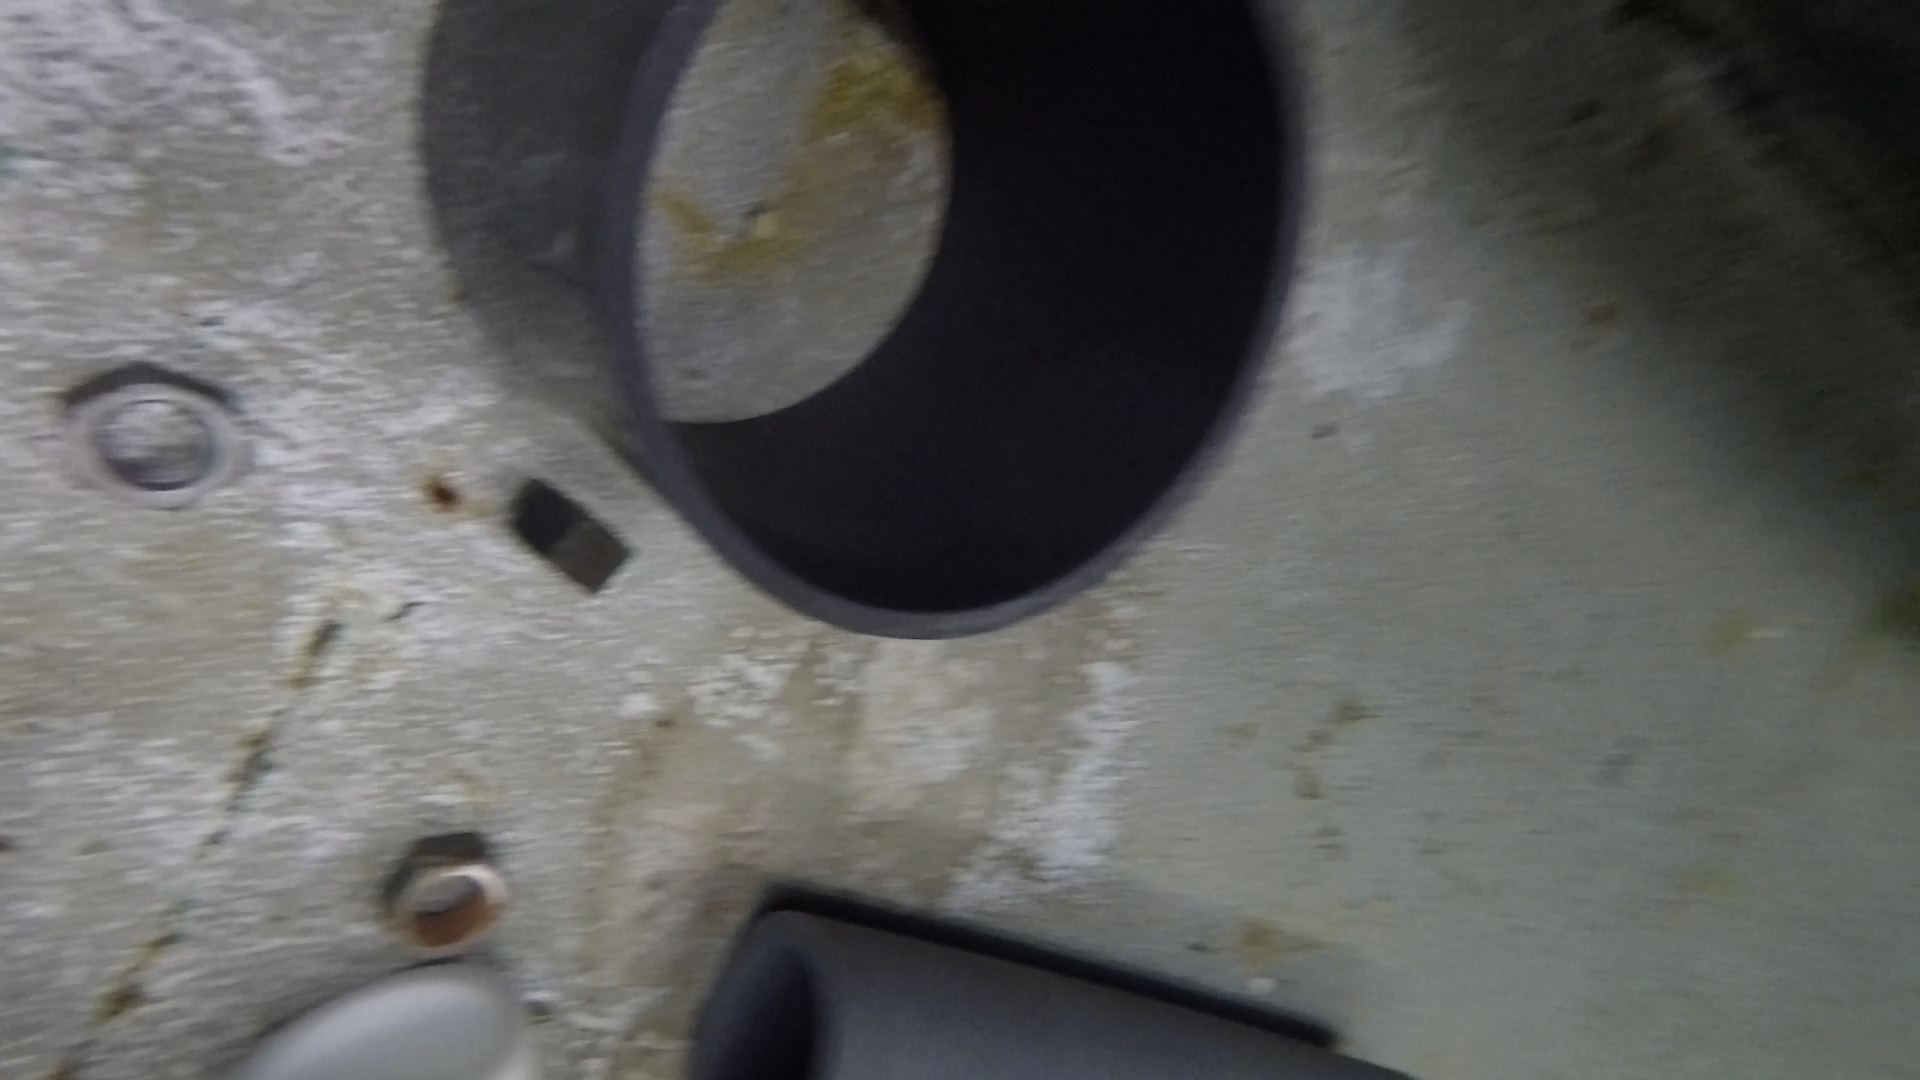nut: (66, 363, 251, 516), (382, 829, 516, 965), (513, 480, 633, 599)
pipe: (425, 1, 1303, 640), (683, 905, 1424, 1080), (203, 967, 554, 1080)
